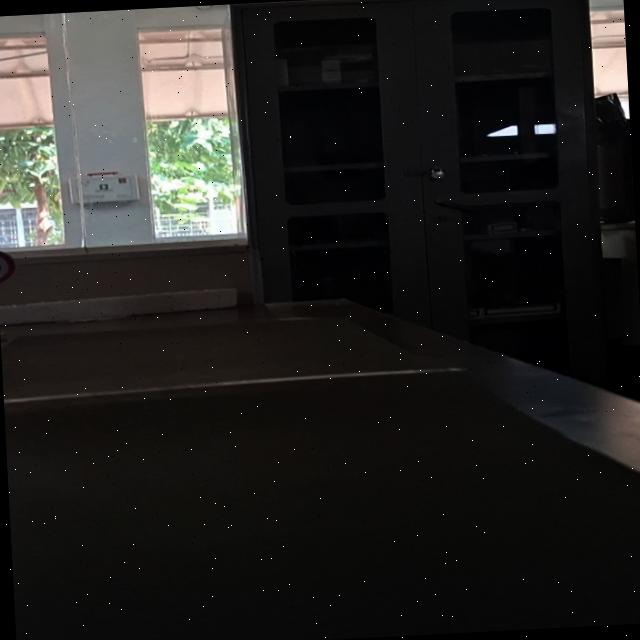Speed40: (0, 245, 19, 288)
